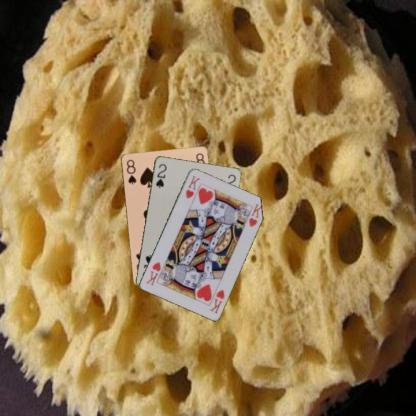2s: (153, 161, 168, 189)
8s: (124, 156, 138, 186)
Kh: (183, 172, 202, 200), (208, 287, 226, 314)
